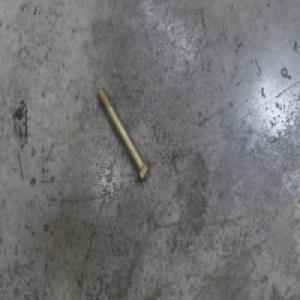Bolt: (97, 85, 152, 184)
